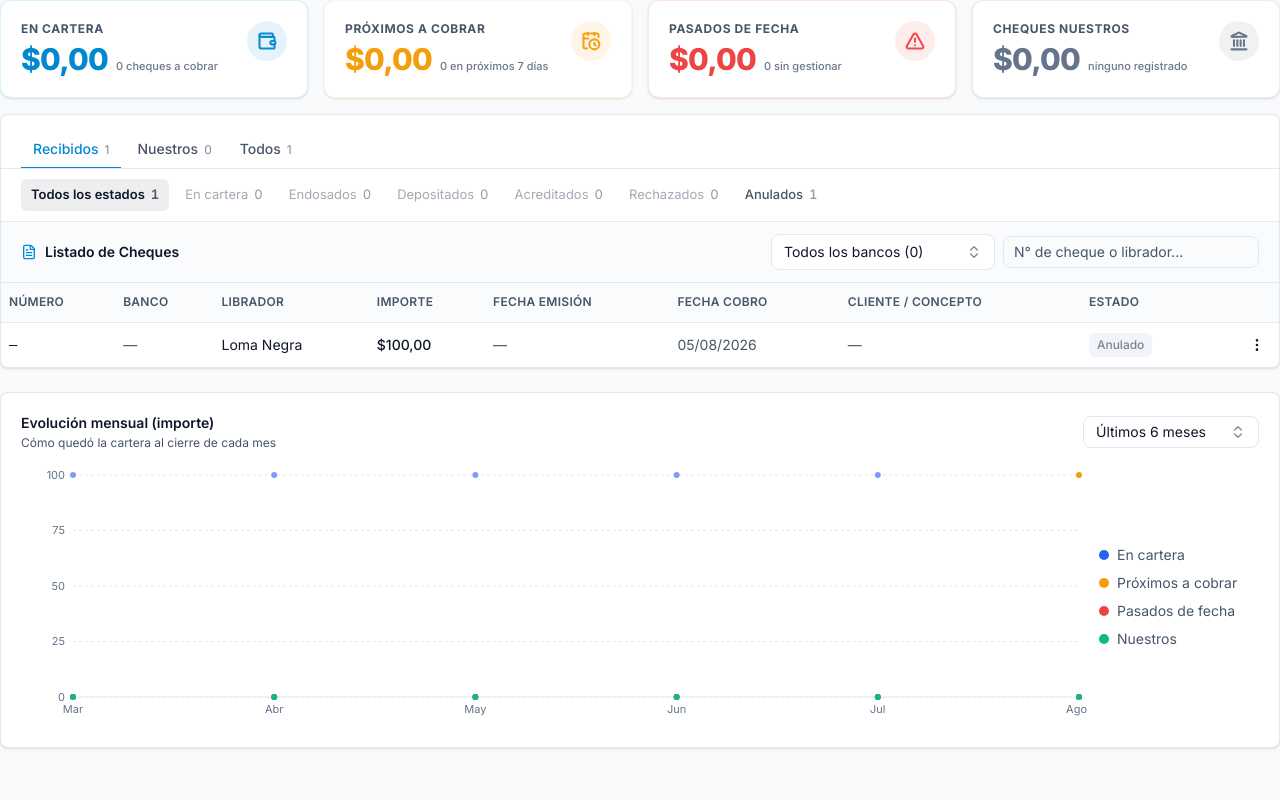
Test: ChequesList — acciones › todo cheque se puede borrar, incluso uno anulado
Click the button named "Acciones del cheque".
click(1257, 345)  # box [1243,331,1271,359]
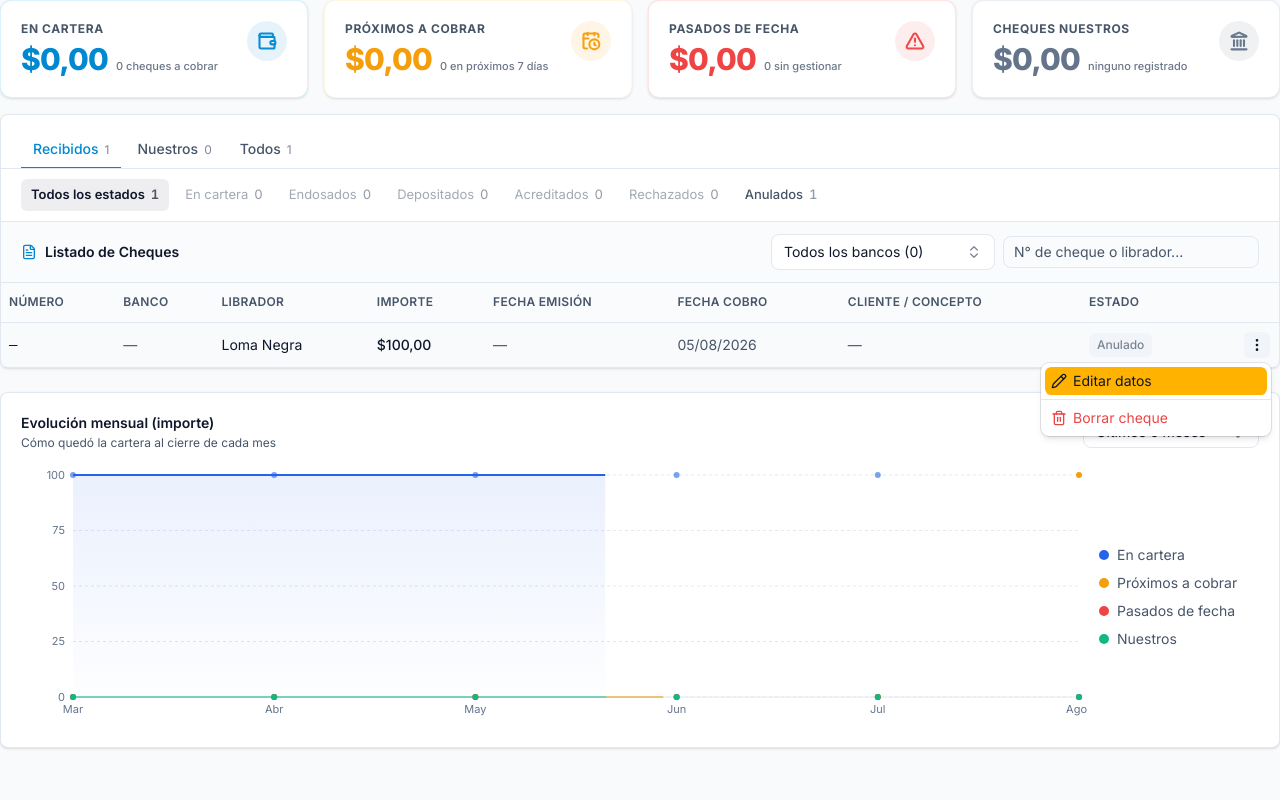
Expected: the menu item "Borrar cheque" is shown, [1051,409,1168,426]
